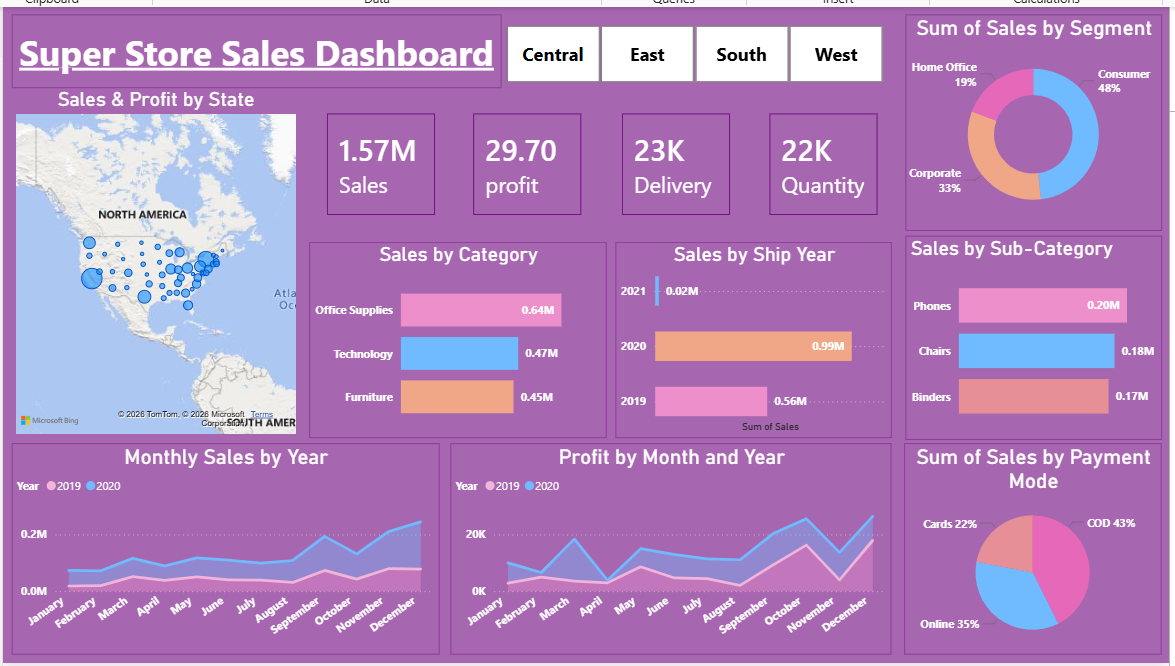

The page's visual inventory and layout, read from the dashboard file:
{"tool":"powerbi","page":{"name":"Page 1","canvas":[1280,720],"ordinal":0},"visuals":[{"type":"clusteredBarChart","title":"Sales by Category","fields":{"Category":["SuperStore_Sales_Dataset.Category"],"Y":["Sum(SuperStore_Sales_Dataset.Sales)"]},"box":[336.2,258,326.6,215.4],"z":0},{"type":"clusteredBarChart","title":"Sales by Sub-Category","fields":{"Category":["SuperStore_Sales_Dataset.Sub-Category","SuperStore_Sales_Dataset.Category"],"Y":["Sum(SuperStore_Sales_Dataset.Sales)"]},"box":[990.7,251.1,281.3,223.7],"z":1000},{"type":"clusteredBarChart","title":"Sales by  Ship Year","fields":{"Category":["SuperStore_Sales_Dataset.Ship Date.Variation.Date Hierarchy.Year","SuperStore_Sales_Dataset.Ship Date.Variation.Date Hierarchy.Quarter","SuperStore_Sales_Dataset.Ship Date.Variation.Date Hierarchy.Month","SuperStore_Sales_Dataset.Ship Date.Variation.Date Hierarchy.Day"],"Y":["Sum(SuperStore_Sales_Dataset.Sales)"]},"box":[672.4,258,303.3,215.4],"z":2000},{"type":"stackedAreaChart","title":" Monthly Sales by Year","fields":{"Y":["Sum(SuperStore_Sales_Dataset.Sales)"],"Category":["SuperStore_Sales_Dataset.Order Date.Variation.Date Hierarchy.Month"],"Series":["SuperStore_Sales_Dataset.Order Date.Variation.Date Hierarchy.Year"]},"box":[9.6,478.9,469.3,231.9],"z":3000},{"type":"stackedAreaChart","title":"Profit by Month and Year","fields":{"Category":["SuperStore_Sales_Dataset.Order Date.Variation.Date Hierarchy.Month"],"Y":["Sum(SuperStore_Sales_Dataset.Profit)"],"Series":["SuperStore_Sales_Dataset.Order Date.Variation.Date Hierarchy.Year"]},"box":[491.3,478.9,484.4,231.9],"z":4000},{"type":"map","title":"Sales & Profit by State","fields":{"Category":["SuperStore_Sales_Dataset.State"],"Size":["Sum(SuperStore_Sales_Dataset.Sales)"]},"box":[9.6,89.2,317,384.2],"z":5000},{"type":"donutChart","fields":{"Category":["SuperStore_Sales_Dataset.Segment"],"Y":["Sum(SuperStore_Sales_Dataset.Sales)"]},"box":[990.7,8.2,281.3,237.4],"z":6000},{"type":"pieChart","fields":{"Y":["Sum(SuperStore_Sales_Dataset.Sales)"],"Category":["SuperStore_Sales_Dataset.Payment Mode"]},"box":[989.4,478.9,282.7,231.9],"z":7000},{"type":"slicer","fields":{"Values":["SuperStore_Sales_Dataset.Region"]},"box":[526.9,0,462.4,89.2],"z":8000},{"type":"shape","box":[9.6,8.2,537.9,81],"z":9000},{"type":"cardVisual","fields":{"Data":["Sum(SuperStore_Sales_Dataset.Sales)"]},"box":[338.9,100.2,152.3,145.5],"z":10000},{"type":"cardVisual","fields":{"Data":["Avg(SuperStore_Sales_Dataset.Profit)"]},"box":[499.5,100.2,152.3,145.5],"z":11000},{"type":"cardVisual","fields":{"Data":["Sum(SuperStore_Sales_Dataset.AvgDelivery)"]},"box":[662.8,100.2,152.3,145.5],"z":12000},{"type":"cardVisual","fields":{"Data":["Sum(SuperStore_Sales_Dataset.Quantity)"]},"box":[824.7,100.2,152.3,145.5],"z":13000}]}

Visuals, with their boxes on the page's 1280x720 design canvas (x1, y1, x2, y2). These are canvas units, not pixel positions in the 1175x666 screenshot, which may show the page scaled, cropped or inside an application window:
"Sales by Category" clusteredBarChart: bbox(336, 258, 663, 473)
"Sales by Sub-Category" clusteredBarChart: bbox(991, 251, 1272, 475)
"Sales by  Ship Year" clusteredBarChart: bbox(672, 258, 976, 473)
" Monthly Sales by Year" stackedAreaChart: bbox(10, 479, 479, 711)
"Profit by Month and Year" stackedAreaChart: bbox(491, 479, 976, 711)
"Sales & Profit by State" map: bbox(10, 89, 327, 473)
donutChart - SuperStore_Sales_Dataset.Segment x Sum(SuperStore_Sales_Dataset.Sales): bbox(991, 8, 1272, 246)
pieChart - Sum(SuperStore_Sales_Dataset.Sales) x SuperStore_Sales_Dataset.Payment Mode: bbox(989, 479, 1272, 711)
slicer - SuperStore_Sales_Dataset.Region: bbox(527, 0, 989, 89)
shape: bbox(10, 8, 548, 89)
cardVisual - Sum(SuperStore_Sales_Dataset.Sales): bbox(339, 100, 491, 246)
cardVisual - Avg(SuperStore_Sales_Dataset.Profit): bbox(500, 100, 652, 246)
cardVisual - Sum(SuperStore_Sales_Dataset.AvgDelivery): bbox(663, 100, 815, 246)
cardVisual - Sum(SuperStore_Sales_Dataset.Quantity): bbox(825, 100, 977, 246)
